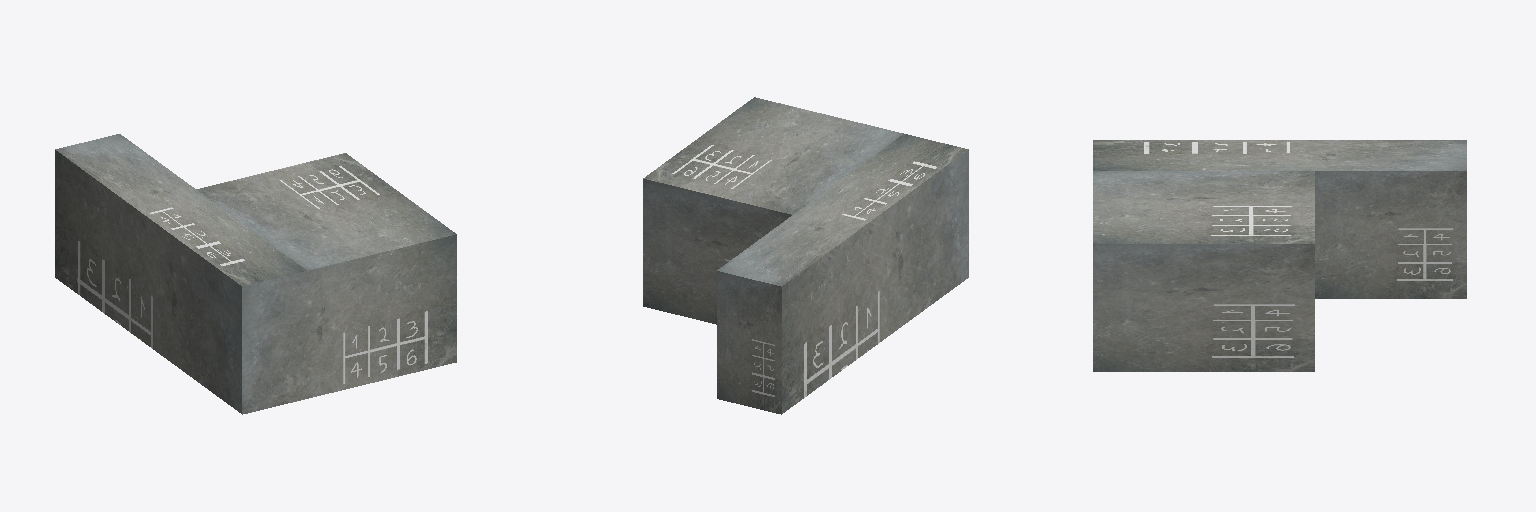
3 views of the same model, side by side, from view 1: azimuth 30°, elevation 25°; view 2: azimuth 150°, elevation 25°; view 3: azimuth 270°, elevation 25° (orthographic).
Parts seen in each view (by area): view 1: Cube.001; view 2: Cube.001; view 3: Cube.001.
Part boxes in pixels (x1,y1,x2,y2): Cube.001: (55,134,456,414); Cube.001: (643,97,968,414); Cube.001: (1093,140,1466,371).
Bounding box in the file's own units: 49.94 × 28.52 × 75.55.
2 materials, 2 textured.